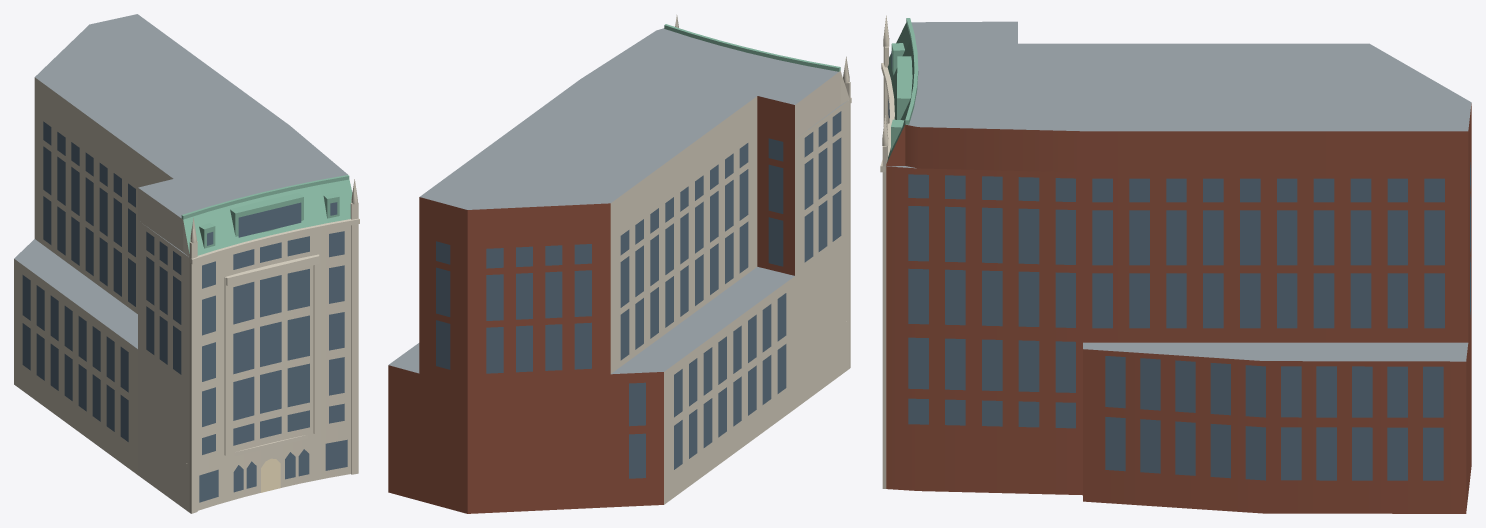
The model's file is indy-columbia-club.glb.
3 views of the same model, side by side, from view 1: azimuth 30°, elevation 25°; view 2: azimuth 150°, elevation 25°; view 3: azimuth 270°, elevation 25° (orthographic). The views are drawn at different scales.
Visible parts, largest first — view 1: The Columbia Club; view 2: The Columbia Club; view 3: The Columbia Club.
Boxes of the visible parts, x1,y1,x2,y2 form: The Columbia Club: (14, 14, 359, 513); The Columbia Club: (388, 15, 851, 513); The Columbia Club: (880, 15, 1471, 513).
Bounding box in the file's own units: 28.11 × 38 × 54.47.
